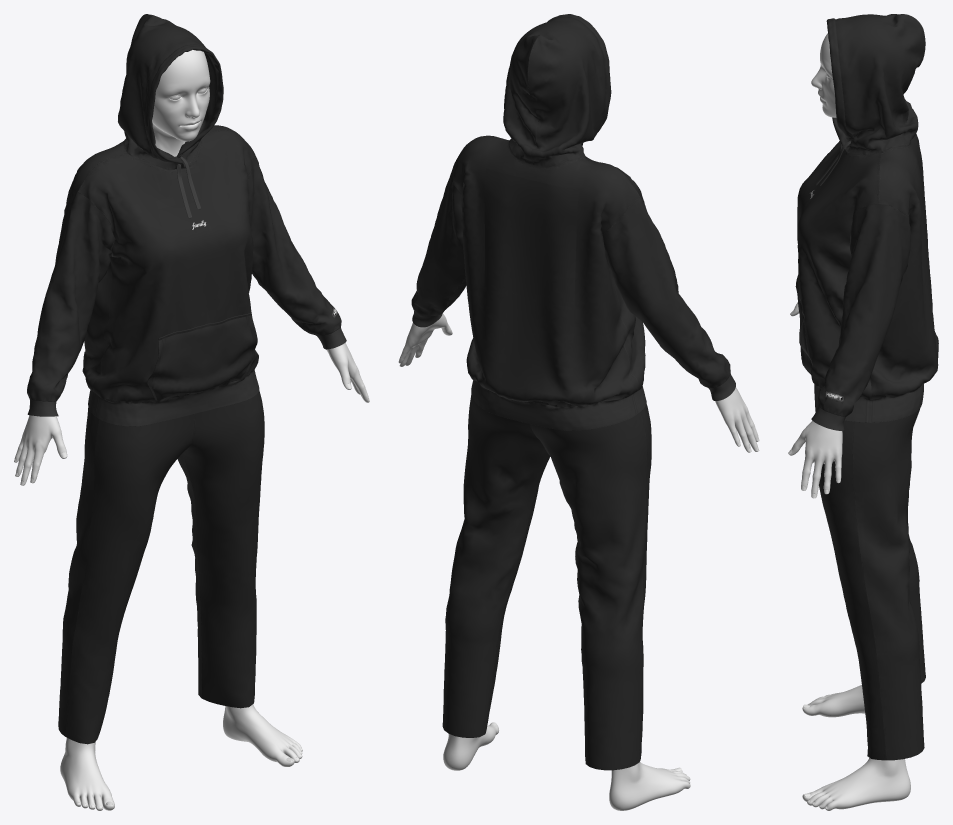
Rendered from fem-transformed.glb.
The picture shows the model from 3 angles, left to right: view 1: azimuth 30°, elevation 25°; view 2: azimuth 150°, elevation 25°; view 3: azimuth 270°, elevation 25°; orthographic projection. The views are drawn at different scales.
Parts seen in each view (by area): view 1: fem; view 2: fem; view 3: fem.
Part boxes in pixels (left/top/right/bottom): fem: left=14, top=14, right=369, bottom=810; fem: left=398, top=14, right=759, bottom=810; fem: left=788, top=14, right=938, bottom=810.
Size of the model in its own units: 88.53 by 180 by 33.1.
Materials: 4 (3 with a texture image).
